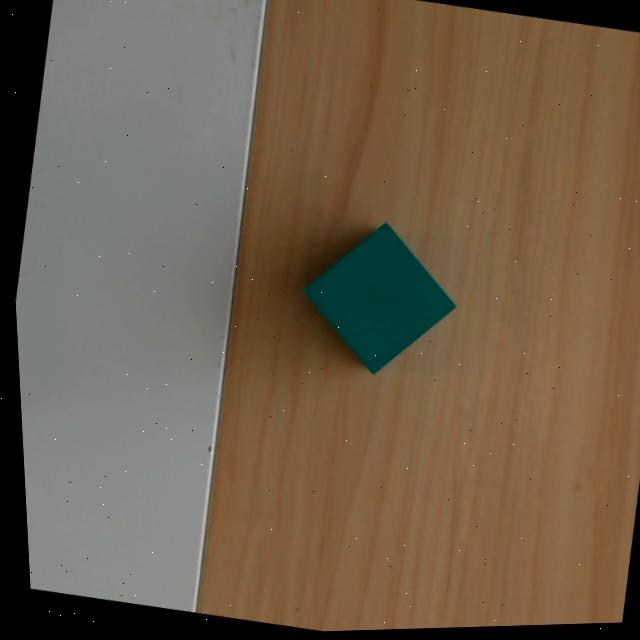Kubus-Hijau-505050: (301, 220, 455, 375)
